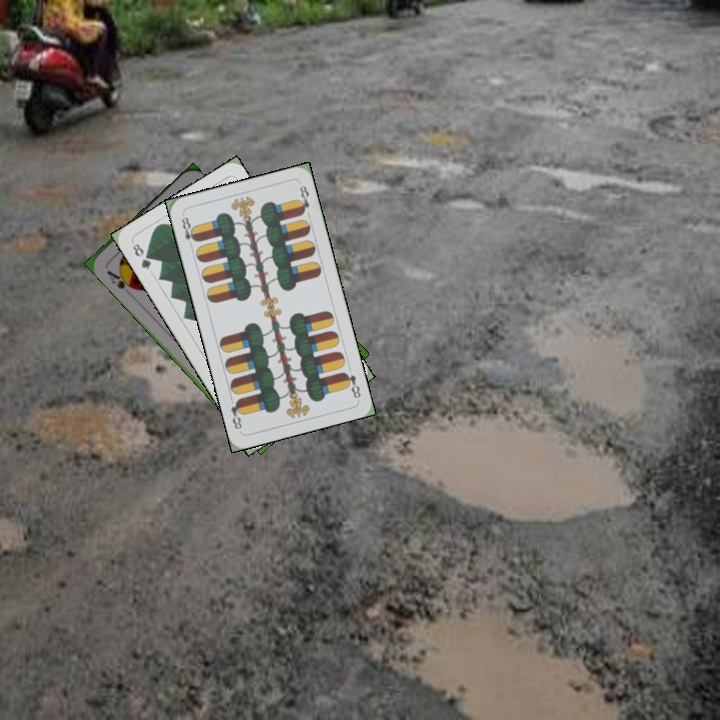E8: (178, 213, 200, 251), (339, 368, 363, 401)
G8: (128, 239, 154, 273)
SA: (103, 266, 137, 292)
